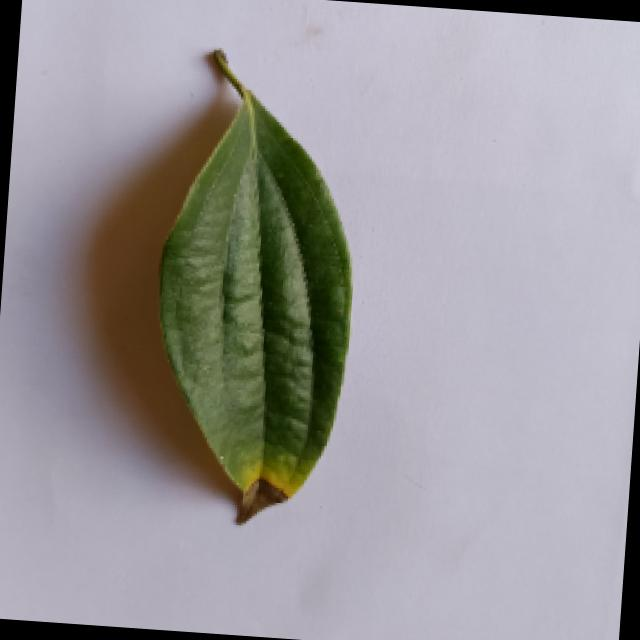footrot: (136, 52, 373, 530)
